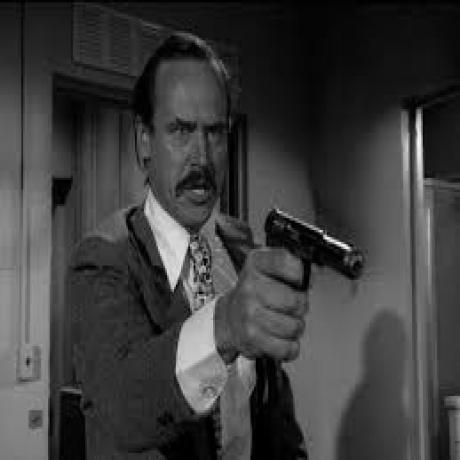Guns: (263, 207, 368, 305)
